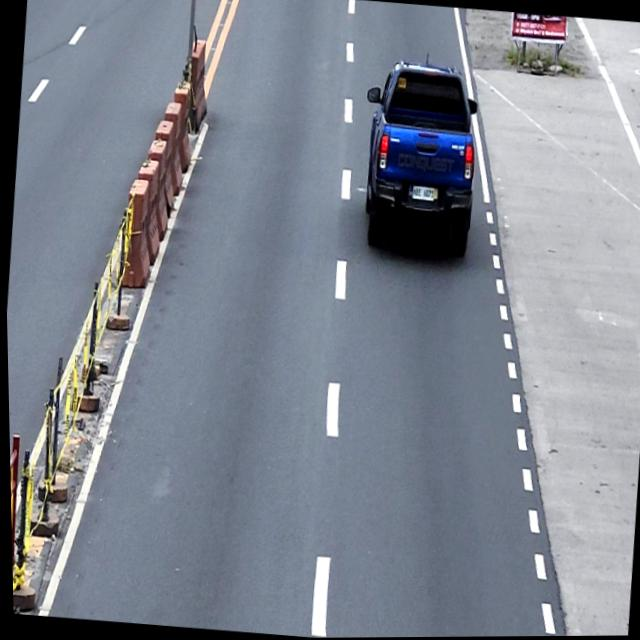Car: (352, 50, 485, 258)
License-Plate: (407, 182, 438, 203)
